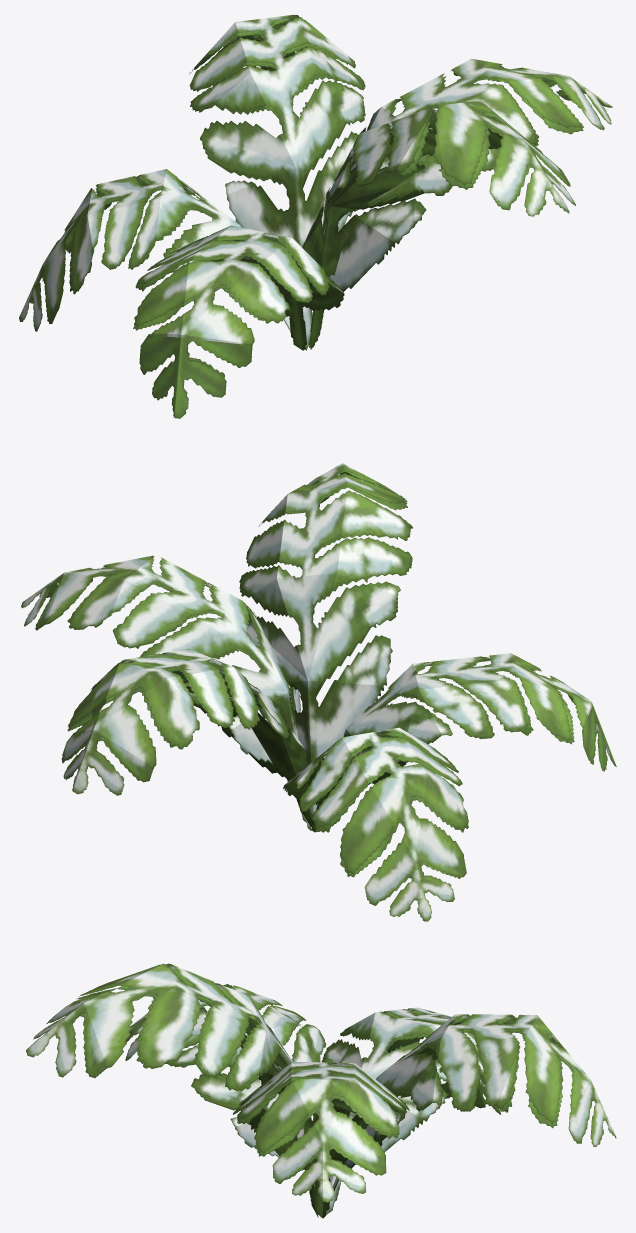
The model's file is C1SNFERNSN_H.bgf.obj.
The picture shows the model from 3 angles, top to bottom: view 1: azimuth 30°, elevation 25°; view 2: azimuth 150°, elevation 25°; view 3: azimuth 270°, elevation 25°; orthographic projection. The views are drawn at different scales.
Visible parts, largest first — view 1: FERN; view 2: FERN; view 3: FERN.
Boxes of the visible parts, x1,y1,x2,y2 form: FERN: [19, 14, 612, 418]; FERN: [21, 463, 616, 921]; FERN: [26, 963, 616, 1218].
Size of the model in its own units: 1.61 by 0.818 by 1.62.
2 materials, 2 textured.
